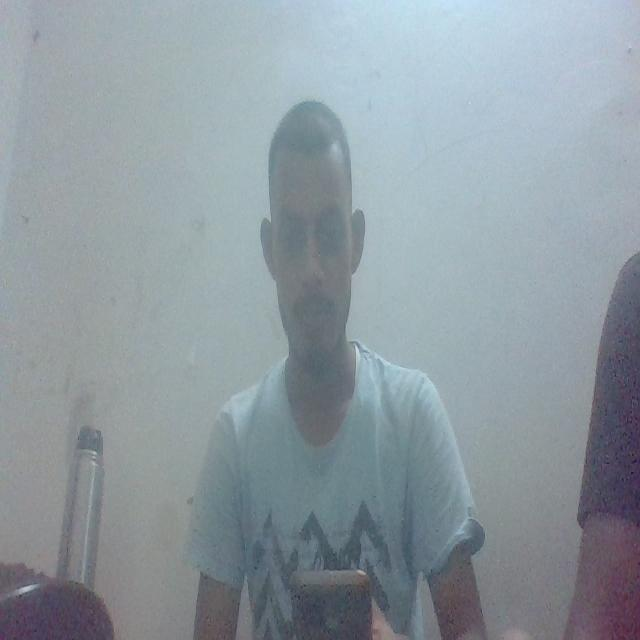Phone: (285, 564, 376, 640)
